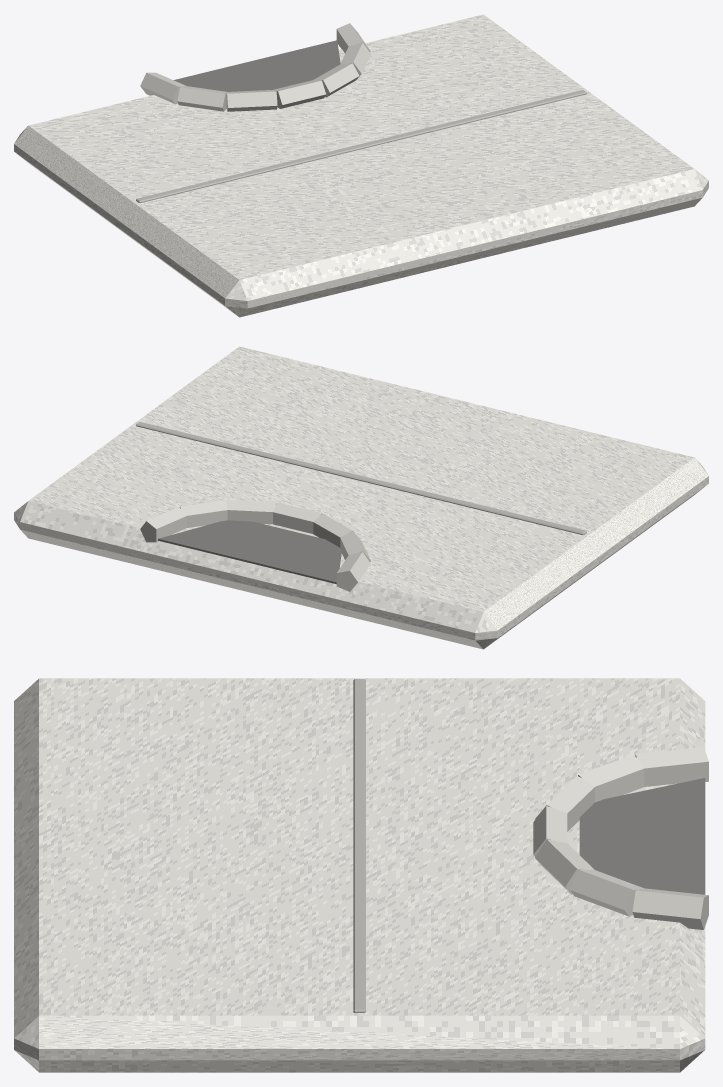
Rendered from undershirt.glb.
The picture shows the model from 3 angles, top to bottom: view 1: azimuth 30°, elevation 25°; view 2: azimuth 150°, elevation 25°; view 3: azimuth 270°, elevation 25°; orthographic projection. The views are drawn at different scales.
Visible parts, largest first — view 1: block_body, block_neckhole, block_fold, block_neck4, block_neck3, block_neck5, block_neck6, block_neck2, block_neck1, block_neck0; view 2: block_body, block_neckhole, block_fold, block_neck0, block_neck2, block_neck3, block_neck1, block_neck6, block_neck4, block_neck5; view 3: block_body, block_neckhole, block_fold, block_neck0, block_neck6, block_neck1, block_neck5, block_neck2, block_neck4, block_neck3.
Boxes of the visible parts, box(x1,y1,x2,y2) form: block_body: box(14, 14, 708, 317); block_neckhole: box(173, 40, 340, 91); block_fold: box(136, 90, 586, 203); block_neck4: box(226, 90, 277, 111); block_neck3: box(273, 80, 326, 108); block_neck5: box(177, 86, 227, 111); block_neck6: box(140, 72, 185, 104); block_neck2: box(314, 63, 359, 97); block_neck1: box(340, 42, 370, 78); block_neck0: box(336, 23, 370, 53); block_body: box(14, 346, 708, 649); block_neckhole: box(158, 520, 341, 583); block_fold: box(136, 422, 586, 535); block_neck0: box(140, 507, 186, 542); block_neck2: box(226, 500, 276, 524); block_neck3: box(273, 502, 321, 533); block_neck1: box(179, 500, 227, 527); block_neck6: box(336, 552, 370, 591); block_neck4: box(313, 514, 352, 547); block_neck5: box(340, 531, 370, 561); block_body: box(14, 678, 705, 1072); block_neckhole: box(579, 778, 705, 894); block_fold: box(353, 679, 365, 1012); block_neck0: box(632, 888, 708, 929); block_neck6: box(635, 747, 708, 786); block_neck1: box(570, 869, 643, 916); block_neck5: box(578, 754, 644, 802); block_neck2: box(535, 839, 594, 894); block_neck4: box(535, 776, 594, 831); block_neck3: box(533, 806, 567, 856).
Bounding box in the file's own units: 0.27 × 0.0287 × 0.2212.
1 material, 1 textured.
